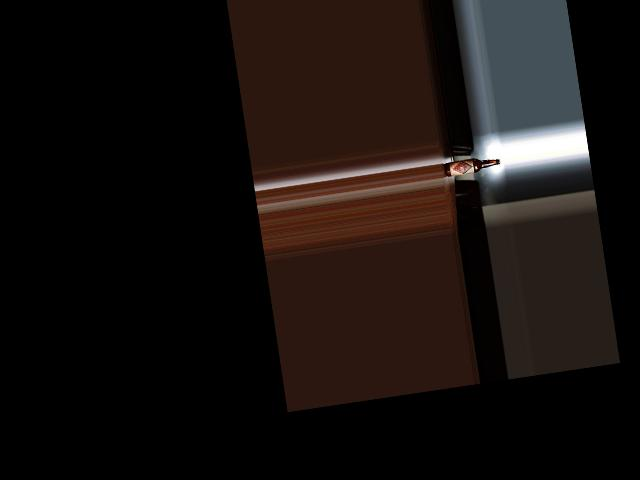beer: (443, 154, 500, 176)
